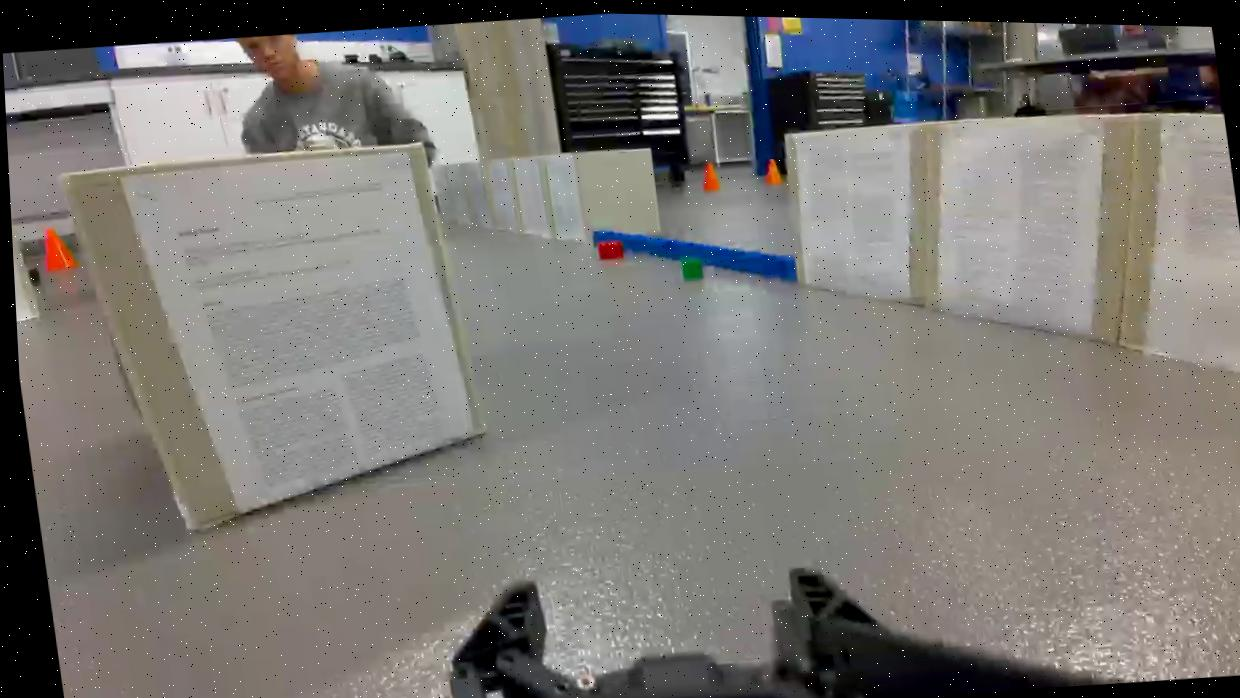2x2lego: (676, 250, 704, 281)
2x4lego: (591, 234, 624, 260)
